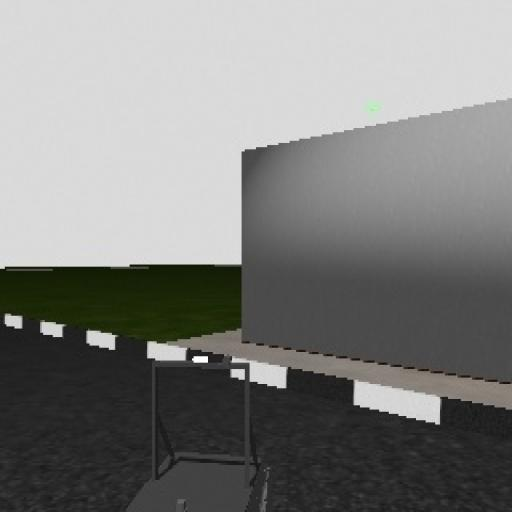huskya200: (128, 357, 277, 512)
